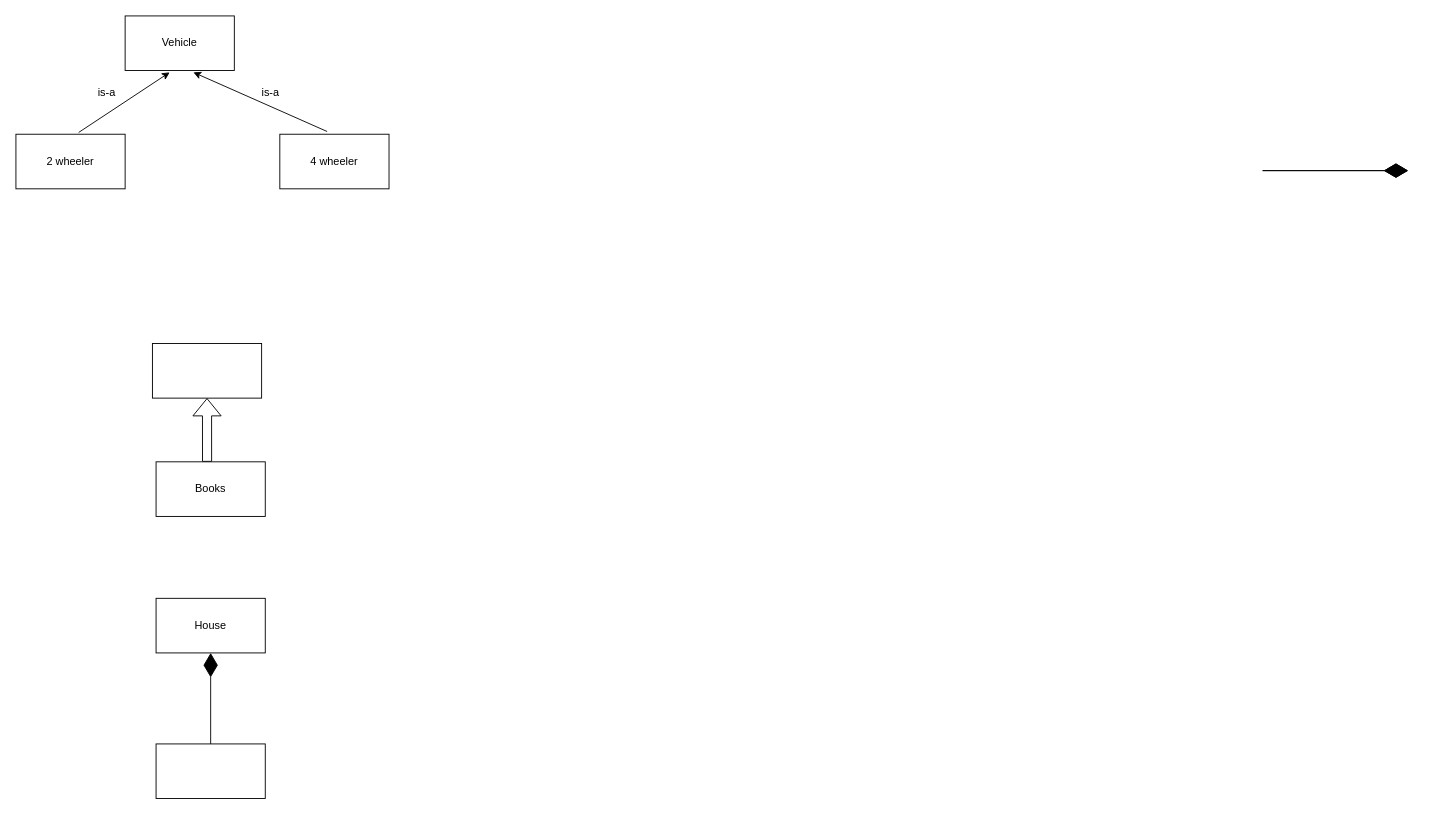
Image size: 1448x814. Some labels were removed from this diagram. Here are the shapes that lost their labels. From the top down, the centre of each, then its label:
At point 207,370: "Library".
At point 210,771: "Rooms".
